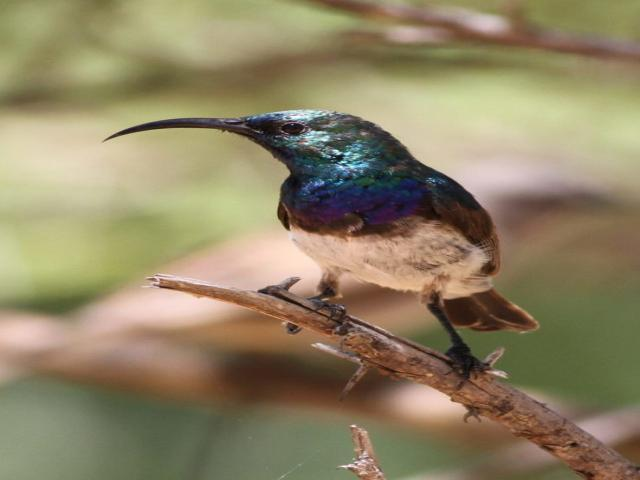Bird: (102, 108, 540, 392)
